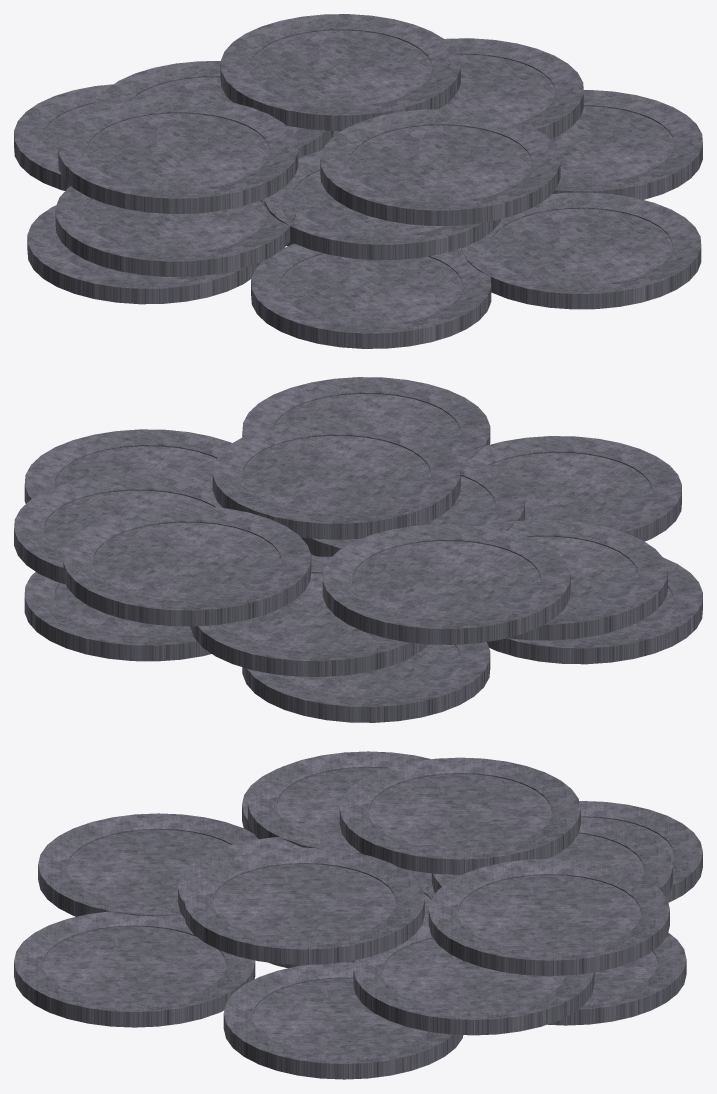
Rendered from coin pile.fbx.
The picture shows the model from 3 angles, top to bottom: view 1: azimuth 30°, elevation 25°; view 2: azimuth 150°, elevation 25°; view 3: azimuth 270°, elevation 25°; orthographic projection. The views are drawn at different scales.
Parts seen in each view (by area): view 1: coin.001; view 2: coin.001; view 3: coin.001.
Part boxes in pixels (box(x1,y1,x2,y2)): coin.001: box(14, 14, 702, 348); coin.001: box(14, 377, 702, 722); coin.001: box(14, 751, 702, 1079).
Size of the model in its own units: 7.04 by 0.5349 by 6.61.
1 material, 1 textured.
